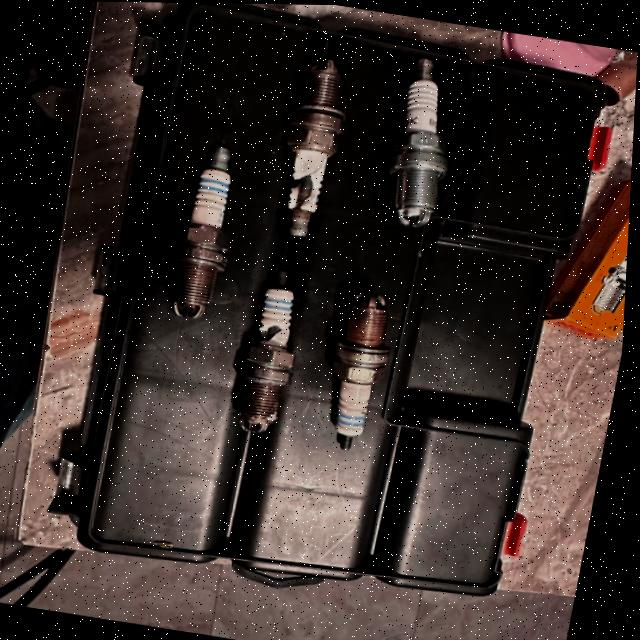damaged_spark-plug: (268, 42, 368, 242), (229, 262, 317, 436)
spark-plug: (372, 47, 472, 225), (157, 140, 247, 321), (322, 288, 404, 449)
